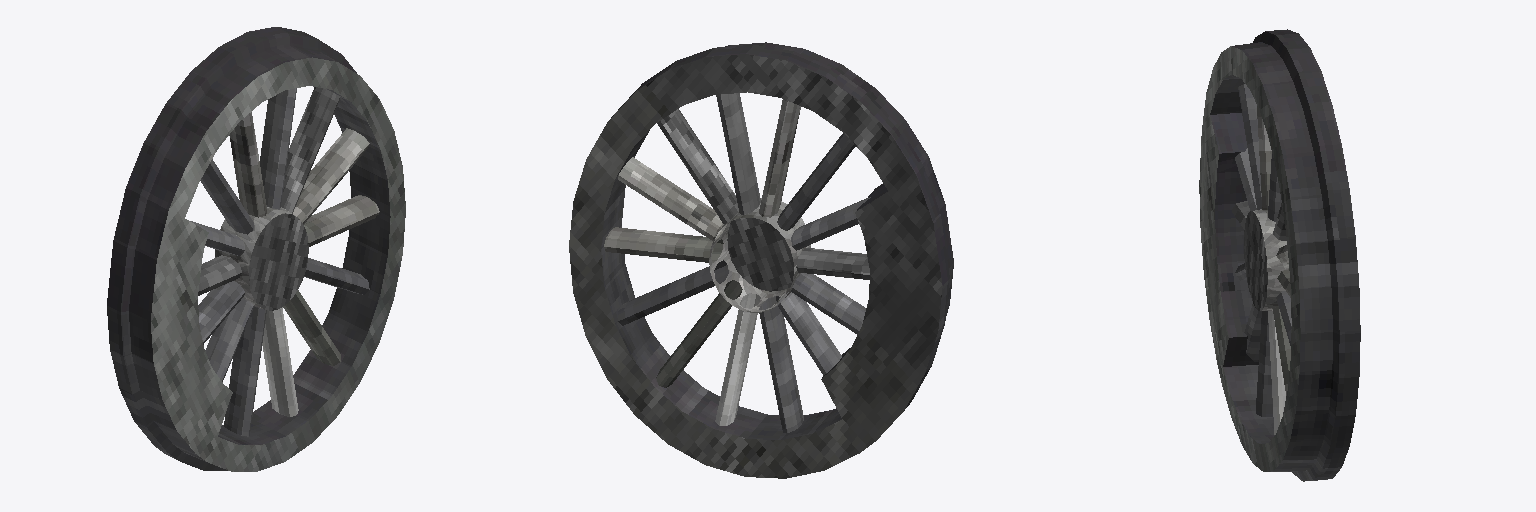
3 renders of one model, left to right at view 1: azimuth 30°, elevation 25°; view 2: azimuth 150°, elevation 25°; view 3: azimuth 270°, elevation 25°, orthographic.
Parts seen in each view (by area): view 1: LlantaDer3; view 2: LlantaDer3; view 3: LlantaDer3.
Part boxes in pixels (bbox=[...]): LlantaDer3: bbox=[107, 27, 405, 471]; LlantaDer3: bbox=[569, 42, 953, 478]; LlantaDer3: bbox=[1199, 29, 1360, 481].
Bounding box in the file's own units: 0.3157 × 0.3939 × 0.1363.
1 materials, 1 textured.